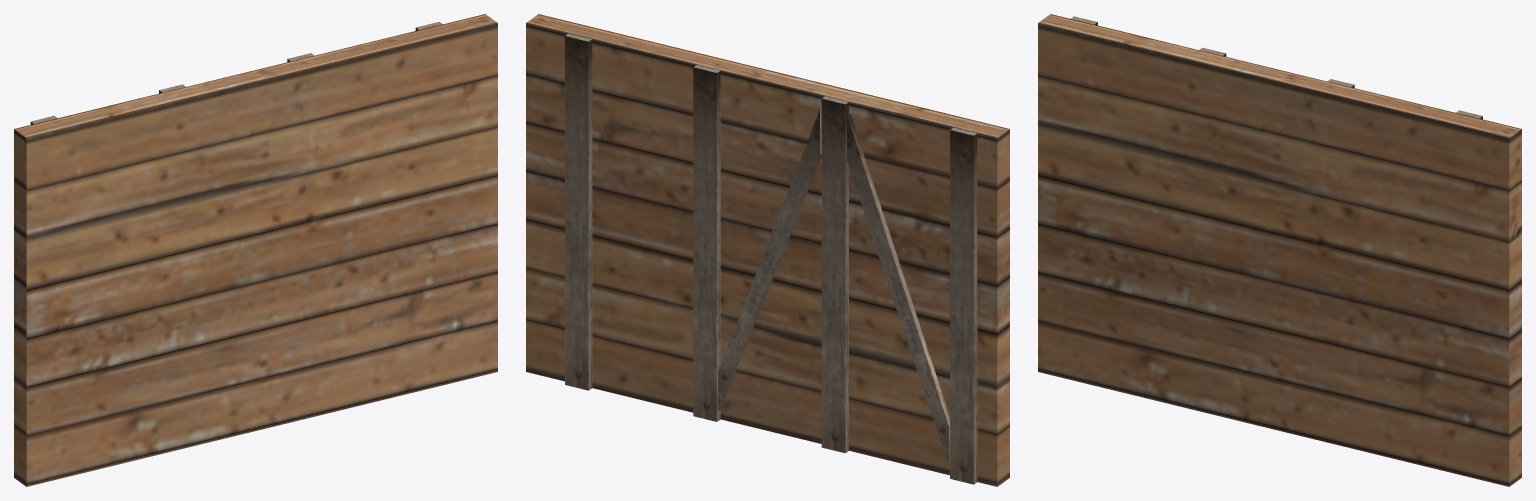
Rendered from Cabin_Thin_Wall_Half_Timber.obj.
3 renders of one model, left to right at view 1: azimuth 30°, elevation 25°; view 2: azimuth 150°, elevation 25°; view 3: azimuth 330°, elevation 25°, orthographic.
Parts seen in each view (by area): view 1: Cube_Cube.001; view 2: Cube_Cube.001, Supports_Cube.002, More_Supports_Cube.003; view 3: Cube_Cube.001.
Part boxes in pixels (x1,y1,x2,y2): Cube_Cube.001: [14, 14, 497, 486]; Cube_Cube.001: [526, 14, 1009, 486]; Supports_Cube.002: [565, 33, 977, 484]; More_Supports_Cube.003: [717, 108, 949, 467]; Cube_Cube.001: [1038, 14, 1521, 486].
Bounding box in the file's own units: 1.98 × 1.4 × 0.116.
